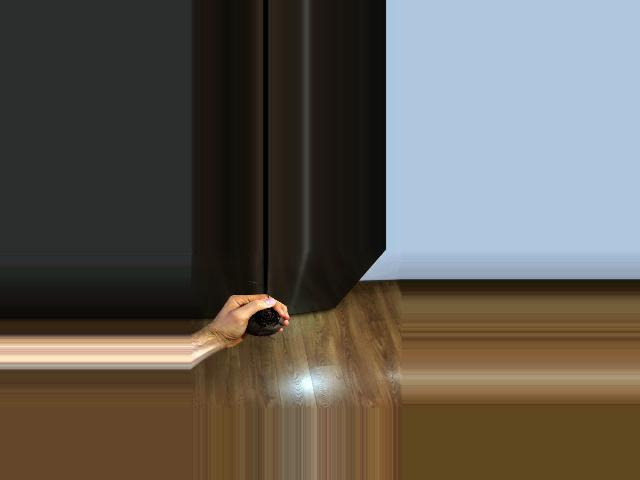beet: (245, 280, 284, 336)
